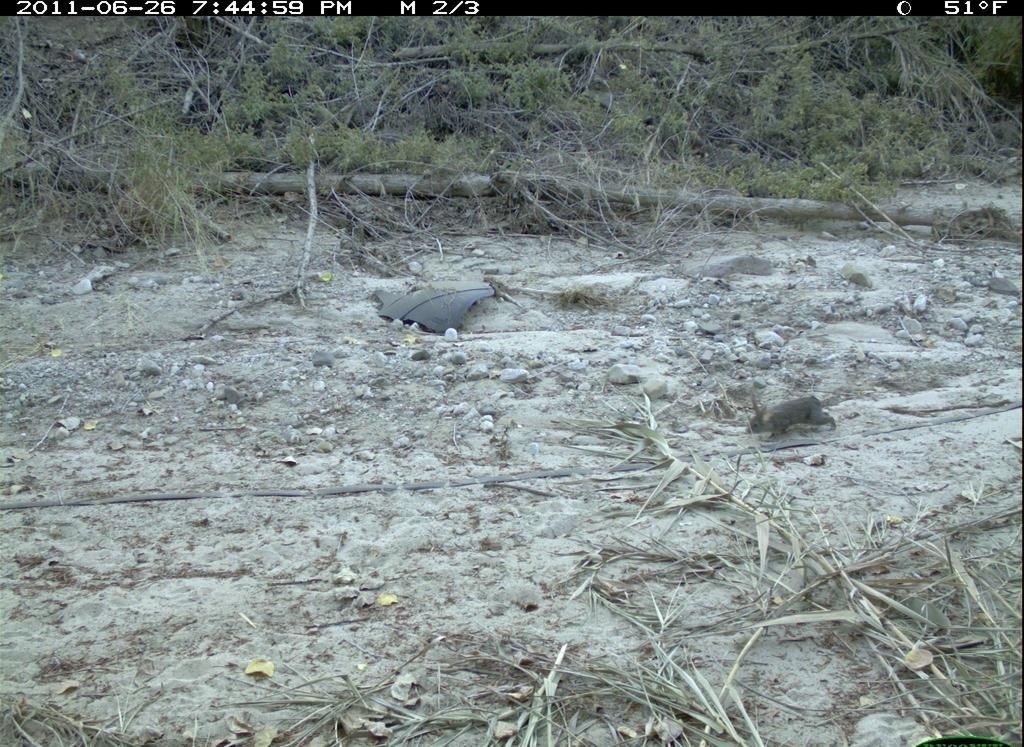rabbit: (738, 387, 841, 447)
